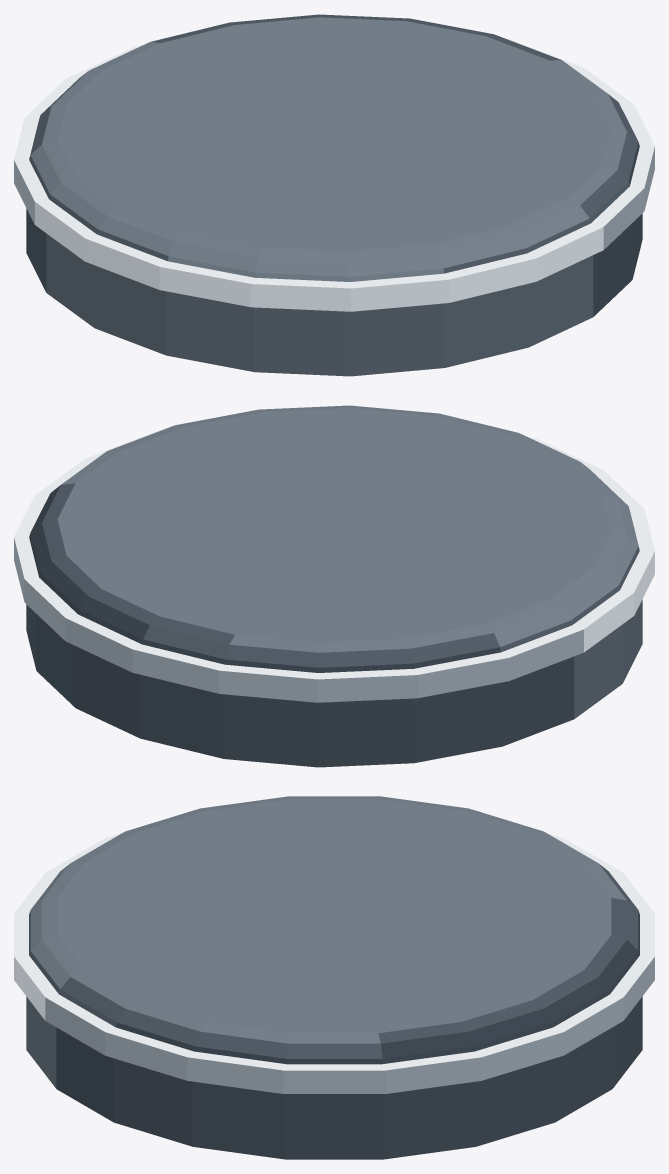
File: Plate_LatchBase.gltf
3 views of the same model, one above another, from view 1: azimuth 30°, elevation 25°; view 2: azimuth 150°, elevation 25°; view 3: azimuth 270°, elevation 25° (orthographic).
Visible parts, largest first — view 1: Plate_LatchBase_baked; view 2: Plate_LatchBase_baked; view 3: Plate_LatchBase_baked.
Boxes of the visible parts, left/top/right/bottom form: Plate_LatchBase_baked: left=14, top=14, right=654, bottom=376; Plate_LatchBase_baked: left=14, top=405, right=654, bottom=767; Plate_LatchBase_baked: left=14, top=796, right=654, bottom=1159.
Size of the model in its own units: 0.6163 by 0.12 by 0.6163.
